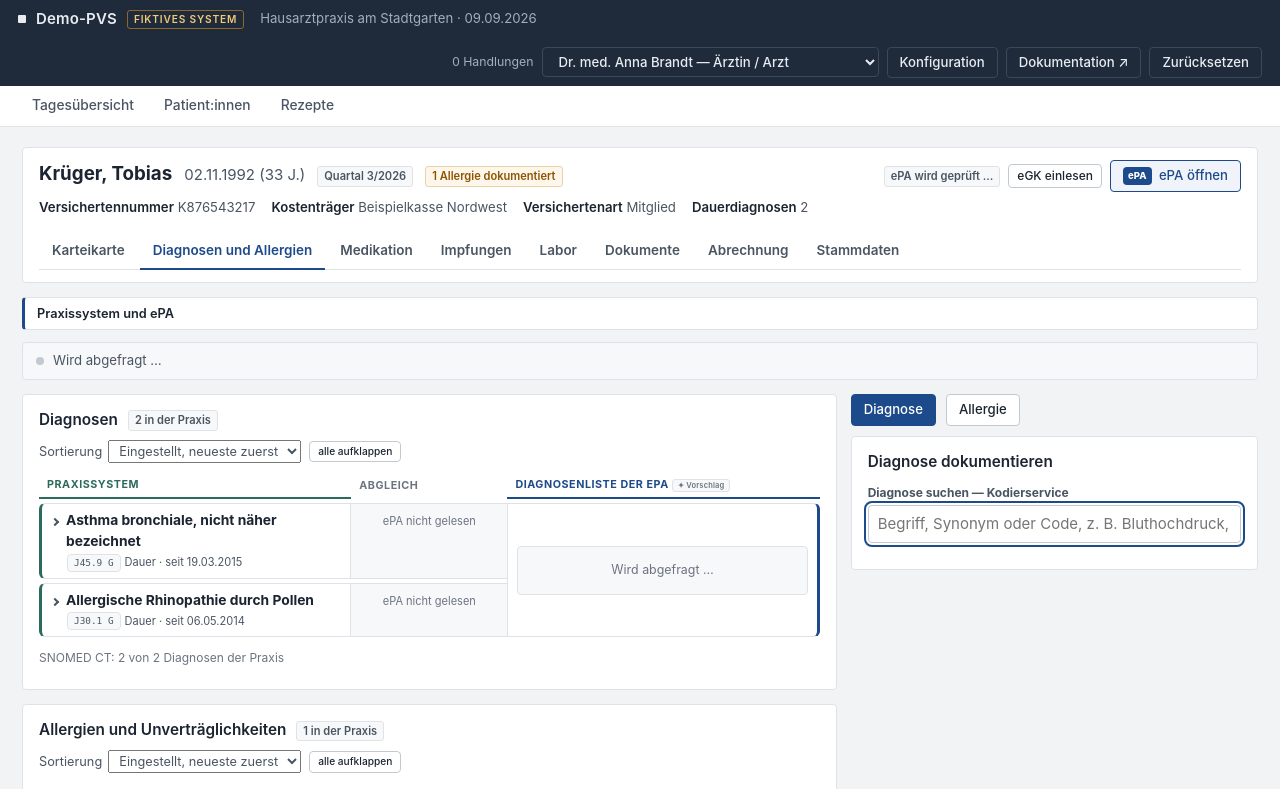
Test case: Diagnoseerfassung mit Kodierservice › belegt Diagnosesicherheit und Status aus dem Zusatzkennzeichen vor
Step 1. Type "Migräne" into the dropdown labelled "Diagnose suchen — Kodierservice" → (1054, 524), box left=868, top=505, right=1241, bottom=543
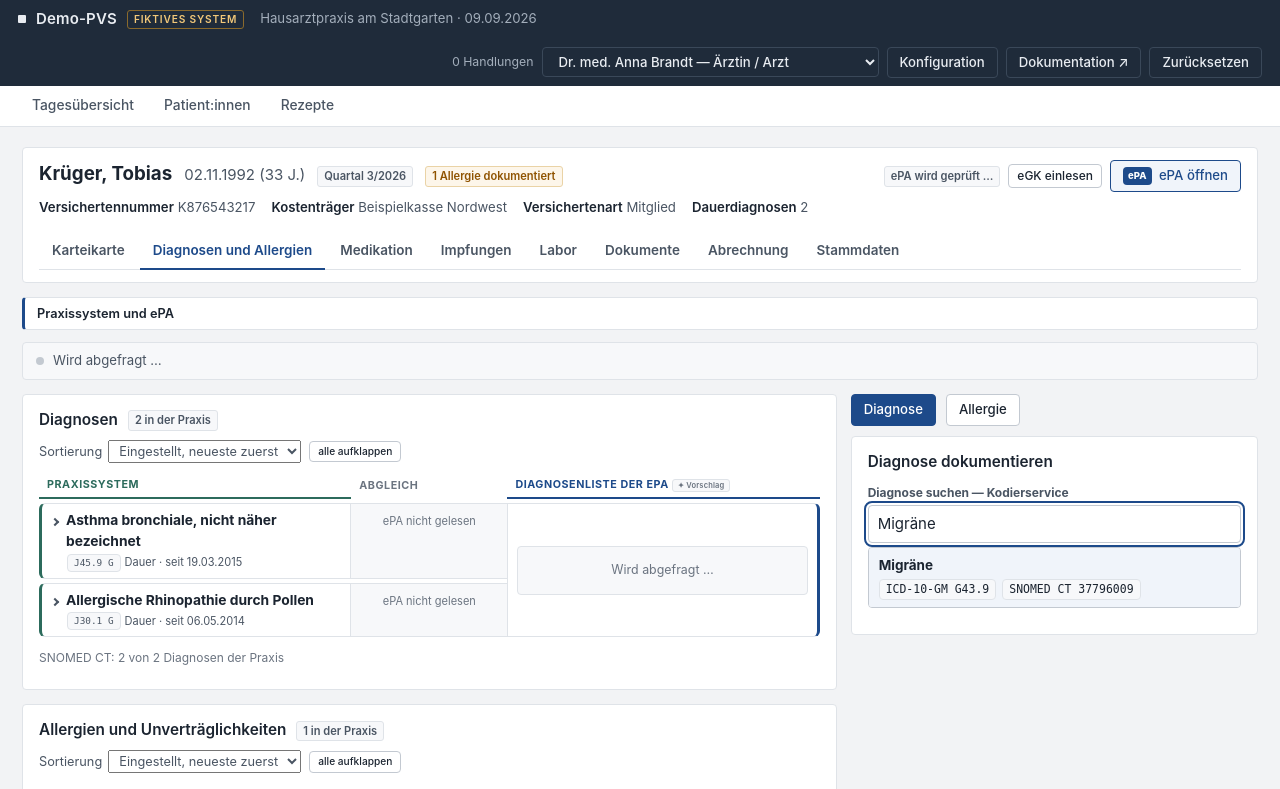
Step 2. Click the option "Migräne ICD-10-GM G43.9 SNOMED CT 37796009" → click(1054, 578), box left=869, top=548, right=1240, bottom=607
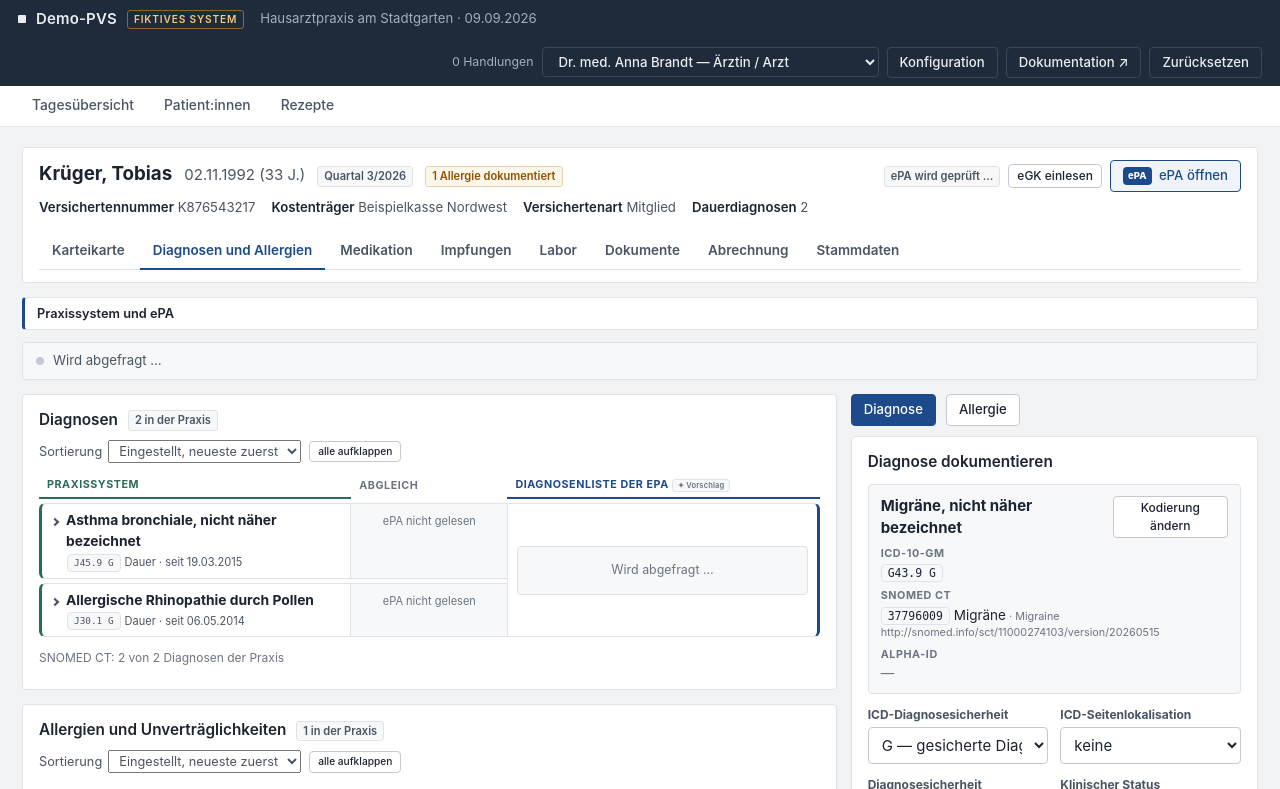
Step 3. Select "Z — Zustand nach" in the dropdown labelled "ICD-Diagnosesicherheit" → (958, 746), box left=868, top=727, right=1048, bottom=764
(page scrolled)
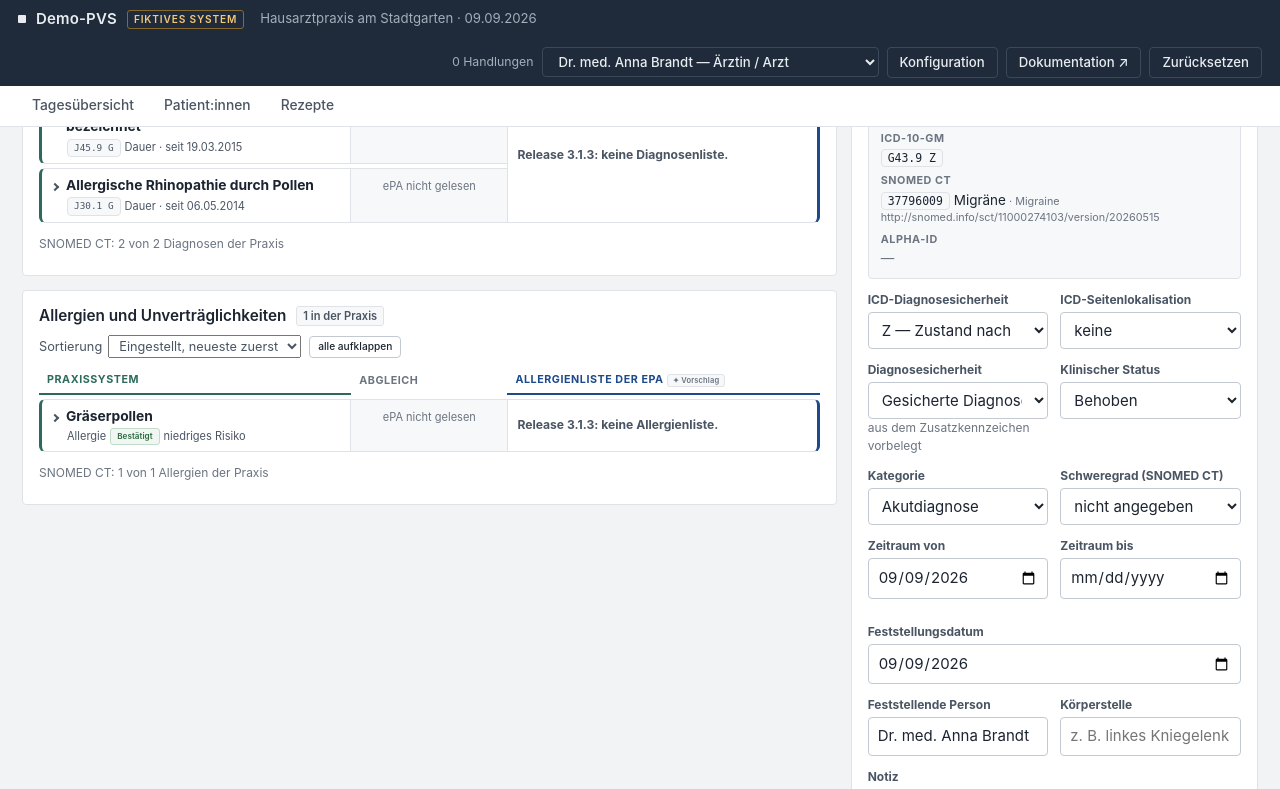
Check: the dropdown labelled "Diagnosesicherheit" shows "Gesicherte Diagnose", box left=868, top=382, right=1048, bottom=420
Check: the dropdown labelled "Klinischer Status" shows "Behoben", box left=1060, top=382, right=1241, bottom=420
